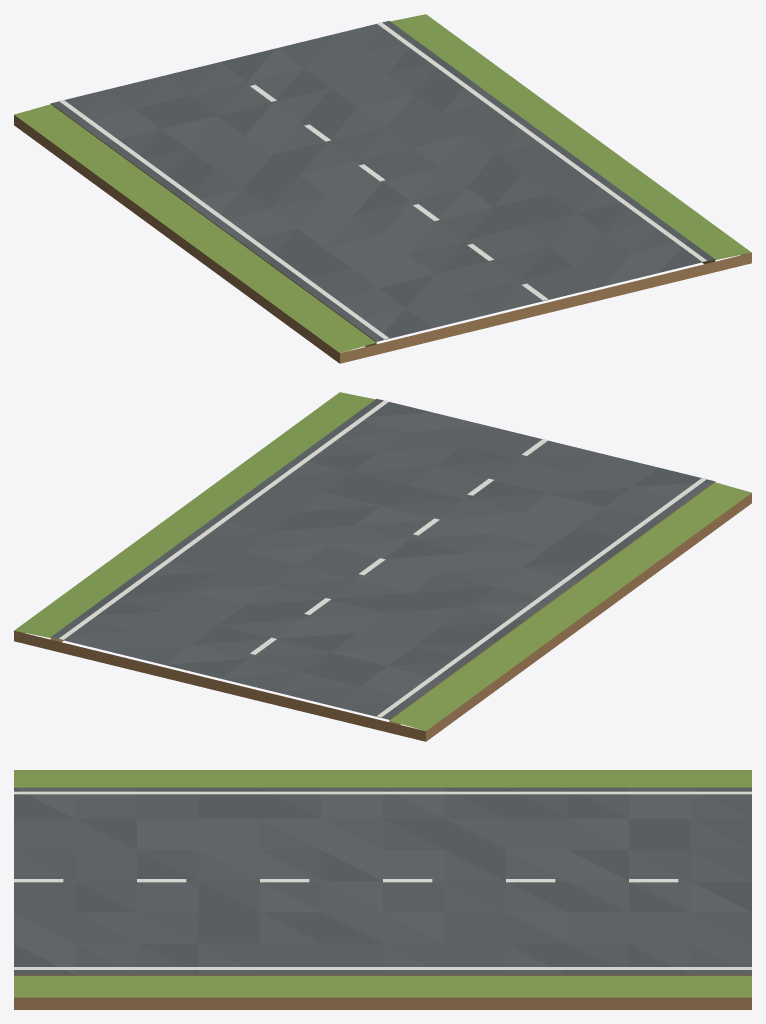
The model's file is asphalt_straight.glb.
3 renders of one model, top to bottom at view 1: azimuth 30°, elevation 25°; view 2: azimuth 150°, elevation 25°; view 3: azimuth 270°, elevation 25°, orthographic. The views are drawn at different scales.
Parts seen in each view (by area): view 1: Body.004; view 2: Body.004; view 3: Body.004.
Part boxes in pixels (x1,y1,x2,y2): Body.004: [14, 14, 751, 363]; Body.004: [14, 392, 751, 741]; Body.004: [14, 770, 751, 1009].
Size of the model in its own units: 7.3 by 0.229 by 10.
